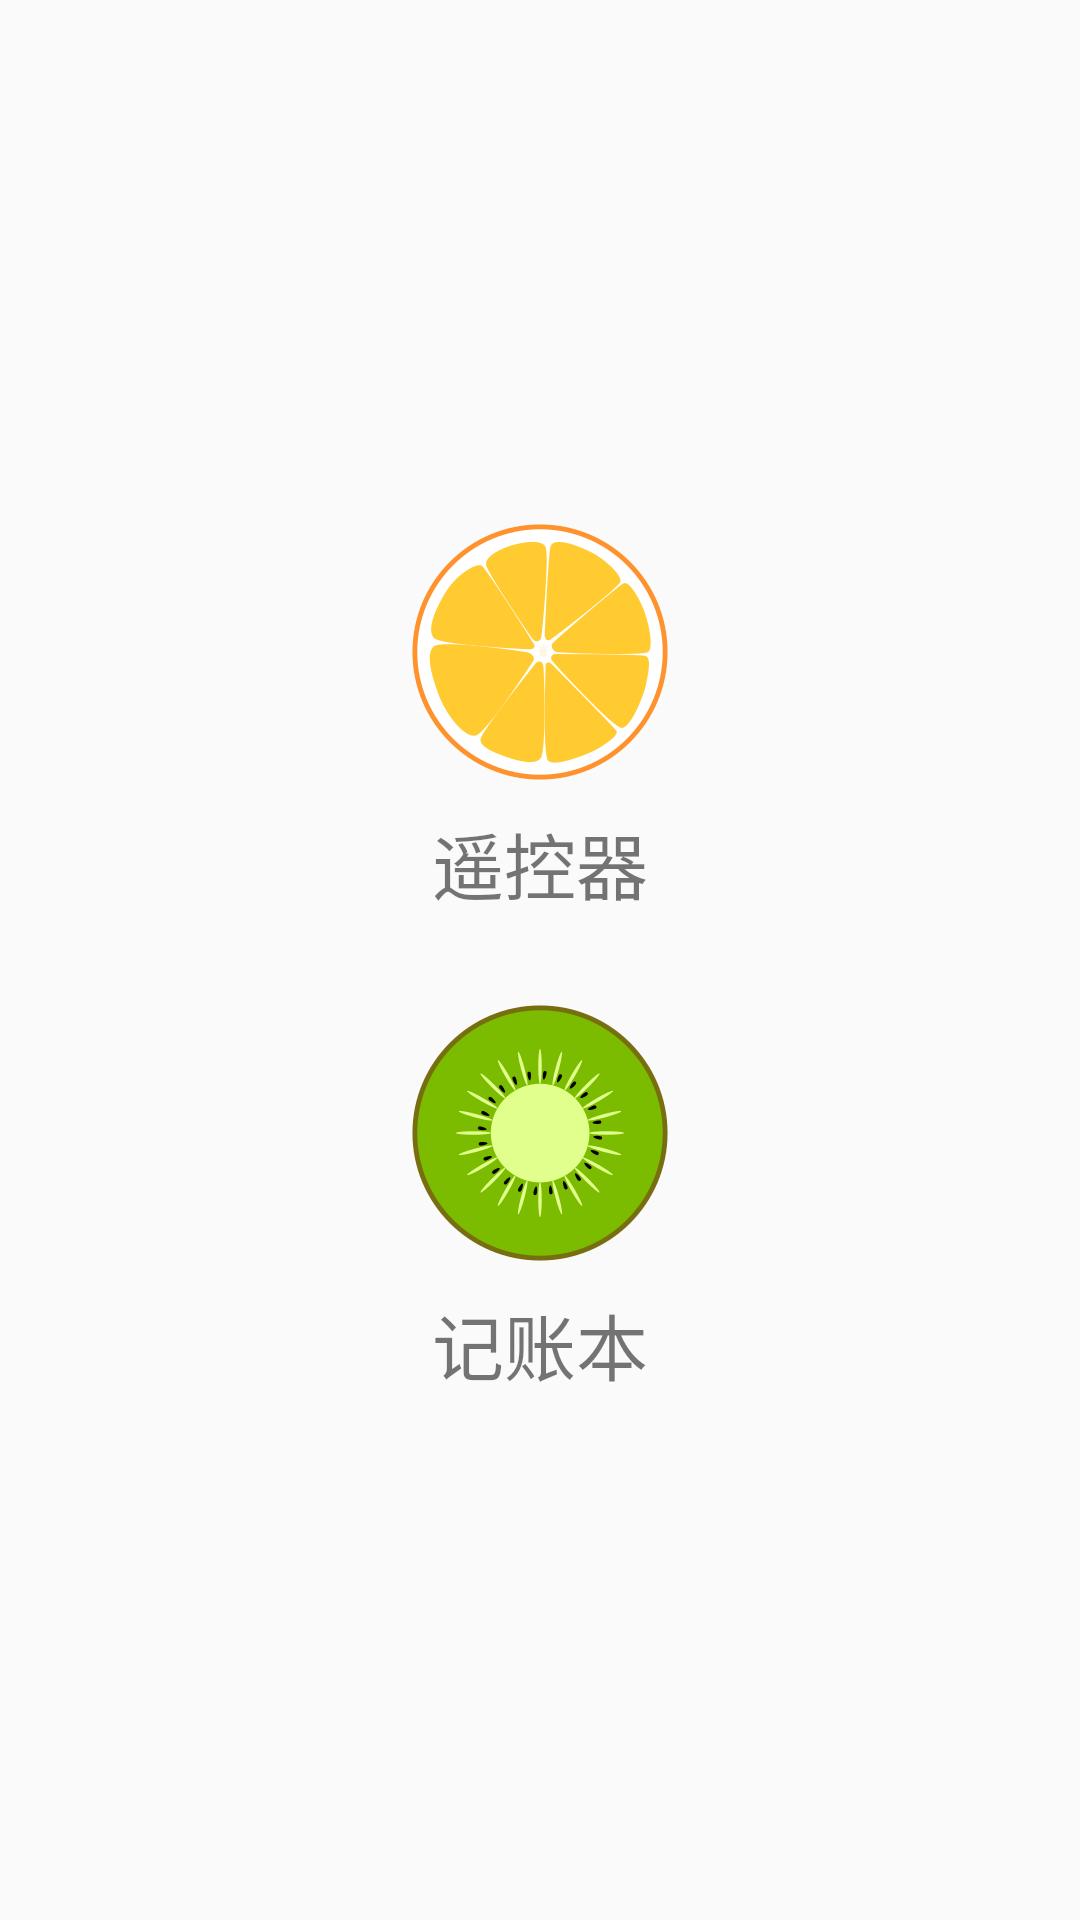

Where icons sit on this 1080w x 1920h app screen, as (x1, y1, x2, y2):
juzi: (412, 524, 668, 780)
mihoutao: (412, 1005, 668, 1261)
